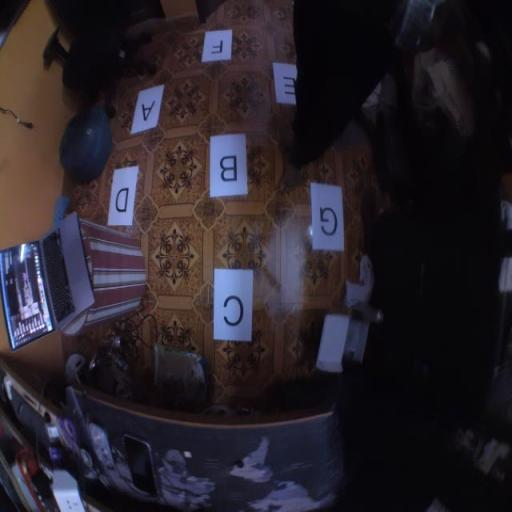A: (130, 84, 164, 134)
B: (209, 134, 247, 198)
C: (214, 269, 254, 341)
D: (108, 165, 138, 226)
E: (272, 62, 297, 104)
F: (202, 29, 232, 63)
G: (310, 181, 344, 251)
